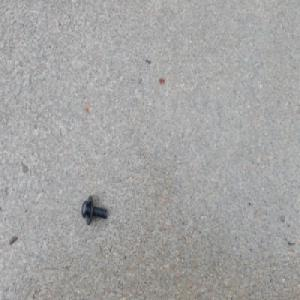BoltWasher: (80, 194, 107, 224)
